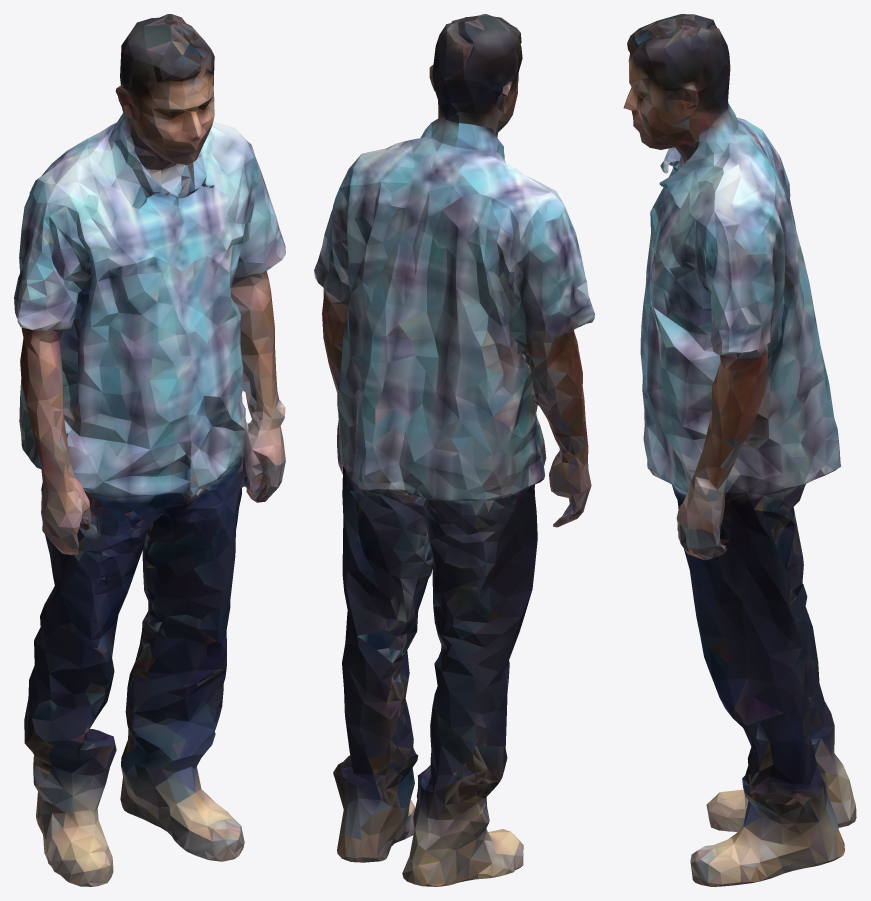
3 views of the same model, side by side, from view 1: azimuth 30°, elevation 25°; view 2: azimuth 150°, elevation 25°; view 3: azimuth 270°, elevation 25° (orthographic). The views are drawn at different scales.
Parts seen in each view (by area): view 1: m.obj; view 2: m.obj; view 3: m.obj.
Boxes of the visible parts, x1,y1,x2,y2 form: m.obj: (14, 14, 285, 886); m.obj: (314, 14, 594, 886); m.obj: (623, 14, 856, 886).
Bounding box in the file's own units: 0.5727 × 1.68 × 0.4271.
1 material, 1 textured.
